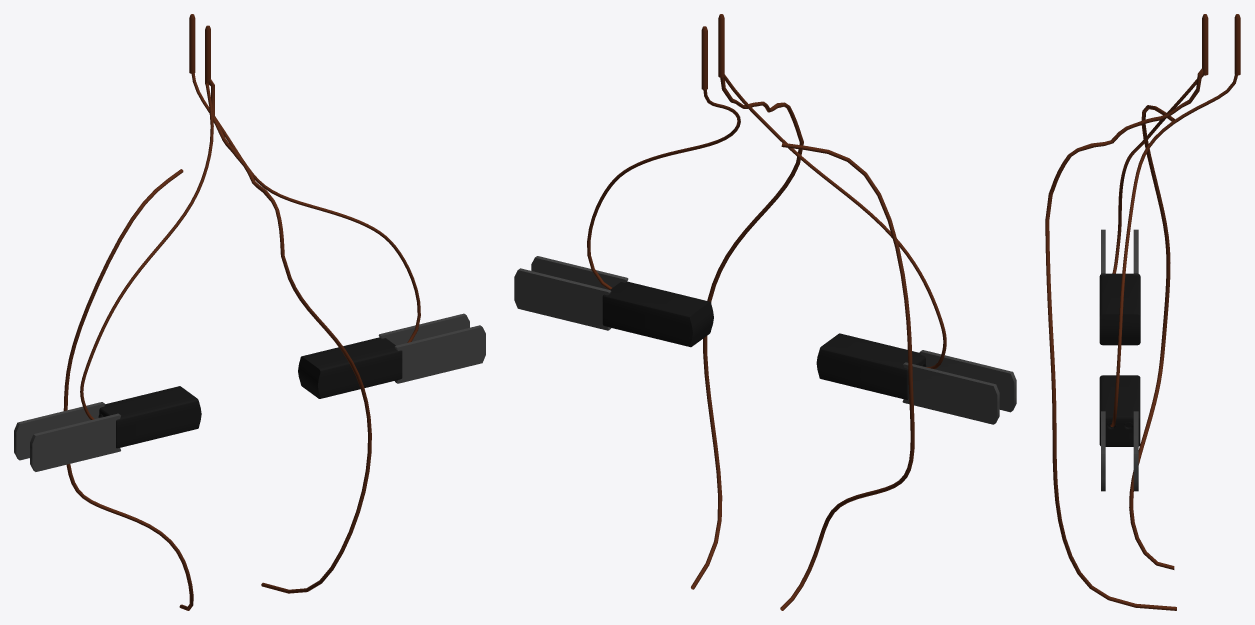
Rendered from brush.fbx.
The picture shows the model from 3 angles, left to right: view 1: azimuth 30°, elevation 25°; view 2: azimuth 150°, elevation 25°; view 3: azimuth 270°, elevation 25°; orthographic projection. The views are drawn at different scales.
Parts seen in each view (by area): view 1: Cylinder.008; view 2: Cylinder.008; view 3: Cylinder.008.
Boxes of the visible parts, x1,y1,x2,y2 form: Cylinder.008: [14, 14, 485, 610]; Cylinder.008: [514, 14, 1016, 610]; Cylinder.008: [1045, 14, 1240, 610].
Bounding box in the file's own units: 44.57 × 52.65 × 16.17.
